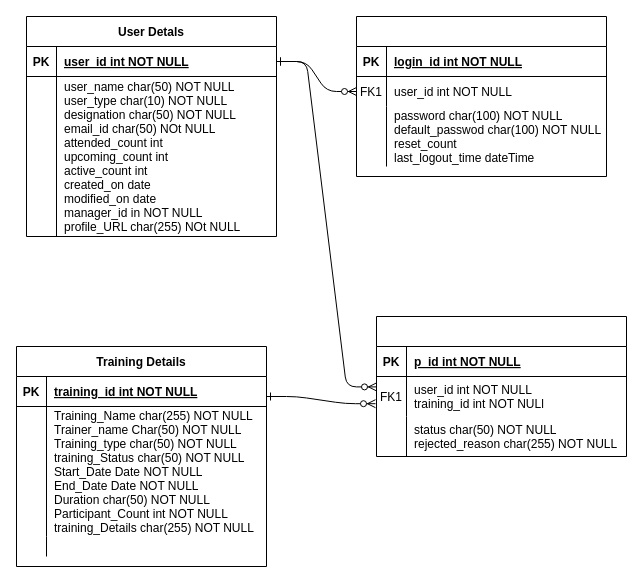
Some shapes in this 643 by 583 pixel diagram are drawn without their labels. Here are the shapes that lost their labels. From the top down, the box of each, then its label:
(356, 16, 606, 176): Login details
(376, 316, 626, 456): Participant details
